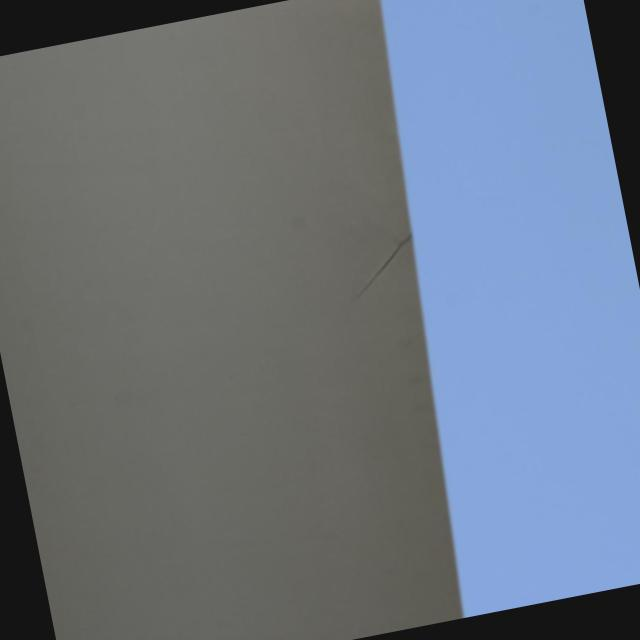crack: (348, 235, 421, 296)
